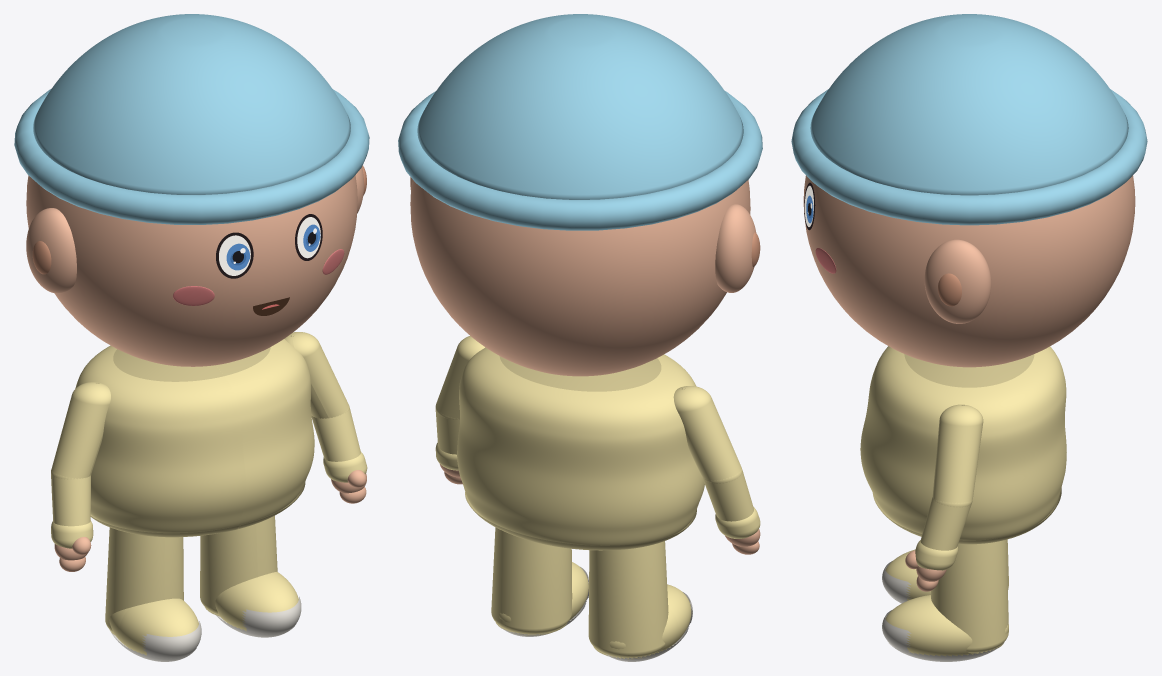
The model's file is baby.glb.
The picture shows the model from 3 angles, left to right: view 1: azimuth 30°, elevation 25°; view 2: azimuth 150°, elevation 25°; view 3: azimuth 270°, elevation 25°; orthographic projection. The views are drawn at different scales.
Parts seen in each view (by area): view 1: baby_muts, baby_hoofd, baby_romp, baby_muts_rand, baby_been_R, baby_been_L, baby_bovenarm_R, baby_schoen_R, baby_oor_R, baby_schoen_L, baby_bovenarm_L, baby_romp_halsboord (+9 smaller); view 2: baby_muts, baby_hoofd, baby_romp, baby_muts_rand, baby_been_R, baby_been_L, baby_bovenarm_R, baby_oor_R, baby_romp_halsboord, baby_onderarm_R, baby_bovenarm_L, baby_schoen_R (+4 smaller); view 3: baby_muts, baby_hoofd, baby_romp, baby_muts_rand, baby_been_L, baby_bovenarm_L, baby_oor_L, baby_schoen_L, baby_romp_halsboord, baby_onderarm_L, baby_manchet_L, baby_schoen_R (+5 smaller).
Part boxes in pixels (left/top/right/bottom): baby_muts: left=33, top=14, right=350, bottom=194; baby_hoofd: left=26, top=175, right=357, bottom=366; baby_romp: left=75, top=339, right=314, bottom=533; baby_muts_rand: left=14, top=89, right=369, bottom=224; baby_been_R: left=105, top=527, right=183, bottom=632; baby_been_L: left=200, top=515, right=277, bottom=614; baby_bovenarm_R: left=51, top=382, right=110, bottom=479; baby_schoen_R: left=109, top=598, right=198, bottom=655; baby_oor_R: left=26, top=208, right=76, bottom=293; baby_schoen_L: left=215, top=572, right=298, bottom=631; baby_bovenarm_L: left=284, top=332, right=348, bottom=418; baby_romp_halsboord: left=113, top=347, right=270, bottom=381; baby_muts: left=417, top=14, right=743, bottom=199; baby_hoofd: left=410, top=180, right=750, bottom=376; baby_romp: left=457, top=347, right=704, bottom=545; baby_muts_rand: left=398, top=91, right=762, bottom=230; baby_been_R: left=588, top=541, right=668, bottom=658; baby_been_L: left=491, top=527, right=572, bottom=634; baby_bovenarm_R: left=673, top=386, right=741, bottom=482; baby_oor_R: left=715, top=204, right=756, bottom=292; baby_romp_halsboord: left=499, top=356, right=661, bottom=391; baby_onderarm_R: left=702, top=471, right=753, bottom=521; baby_bovenarm_L: left=436, top=336, right=484, bottom=418; baby_schoen_R: left=609, top=584, right=691, bottom=658; baby_muts: left=810, top=14, right=1128, bottom=195; baby_hoofd: left=803, top=175, right=1135, bottom=367; baby_romp: left=860, top=346, right=1066, bottom=540; baby_muts_rand: left=791, top=89, right=1147, bottom=225; baby_been_L: left=931, top=540, right=1008, bottom=653; baby_bovenarm_L: left=932, top=404, right=983, bottom=507; baby_oor_L: left=924, top=239, right=991, bottom=323; baby_schoen_L: left=885, top=595, right=1008, bottom=656; baby_romp_halsboord: left=904, top=354, right=1034, bottom=387; baby_onderarm_L: left=920, top=497, right=971, bottom=550; baby_manchet_L: left=915, top=540, right=958, bottom=570; baby_schoen_R: left=885, top=549, right=1008, bottom=600.
Bounding box in the file's own units: 0.5372 × 0.9391 × 0.5023.
